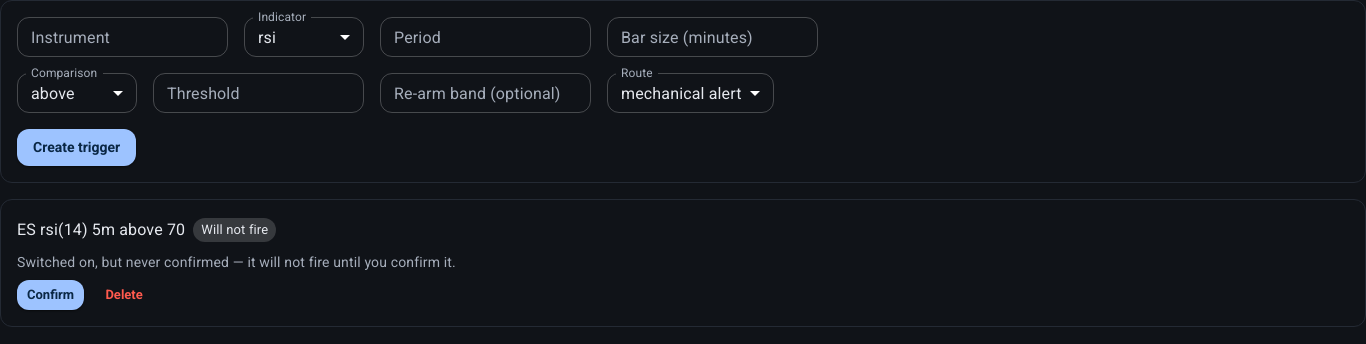
Test case: TriggersSurface › confirming replaces the row with what the server returned, not an assumed state
The width and height of the screenshot is (1366, 344).
Click the button "Confirm ". click: (51, 295)
box: top-left (17, 280), bottom-right (84, 310)
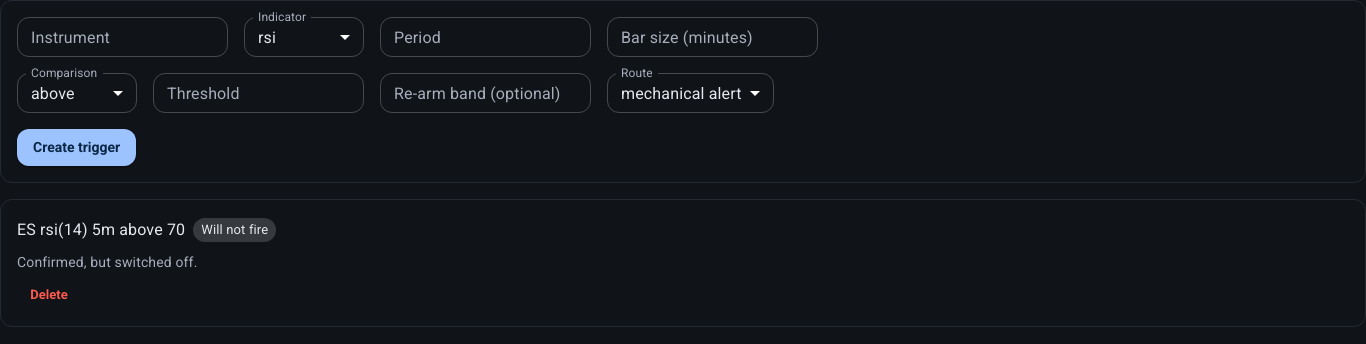
Check: the text "Confirmed, but switched off." is shown, box top-left (17, 254), bottom-right (198, 270)
